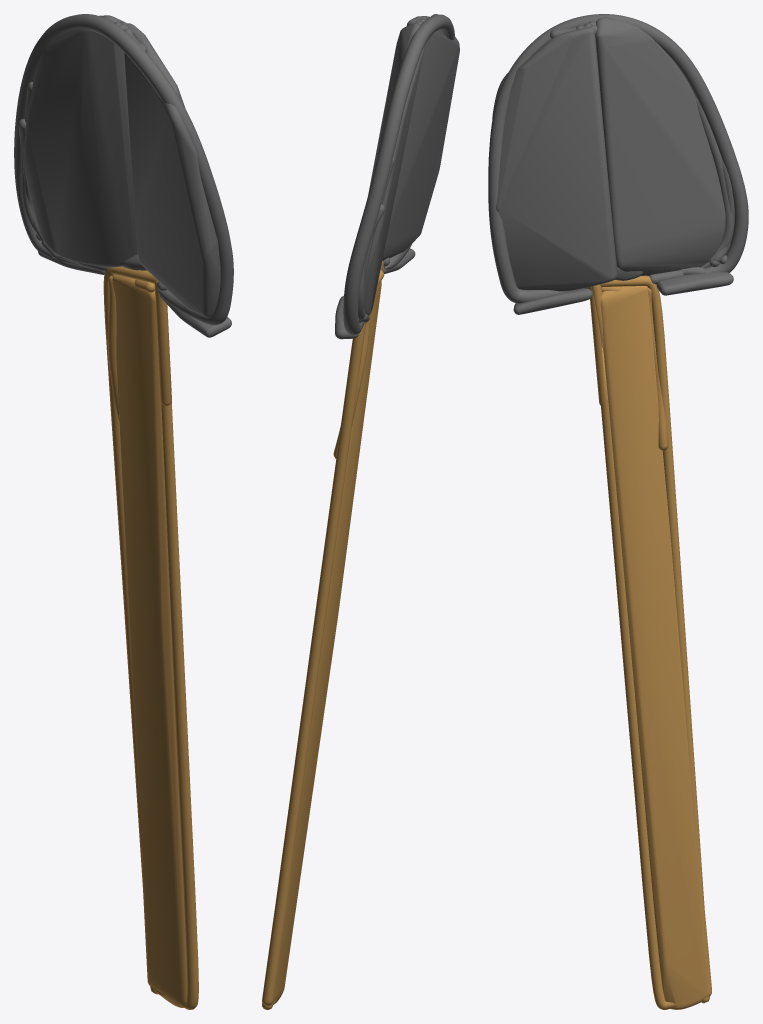
Rendered from shovel.fbx.
3 views of the same model, side by side, from view 1: azimuth 30°, elevation 25°; view 2: azimuth 150°, elevation 25°; view 3: azimuth 270°, elevation 25° (orthographic). The views are drawn at different scales.
Visible parts, largest first — view 1: s.0022, s.0012, s.0013, s.0020, s.0007, s.0021, s.0033, s.0016, s.0036; view 2: s.0022, s.0013, s.0020, s.0007, s.0012, s.0016, s.0033; view 3: s.0022, s.0013, s.0012, s.0020, s.0007, s.0016, s.0035, s.0036, s.0033, s.0021.
Part boxes in pixels (bbox=[...]): s.0022: bbox=[112, 274, 187, 1007]; s.0012: bbox=[24, 15, 137, 267]; s.0013: bbox=[124, 23, 220, 317]; s.0020: bbox=[103, 266, 198, 1009]; s.0007: bbox=[14, 14, 233, 325]; s.0021: bbox=[154, 280, 171, 405]; s.0033: bbox=[107, 275, 119, 420]; s.0016: bbox=[18, 82, 43, 241]; s.0036: bbox=[159, 289, 231, 337]; s.0022: bbox=[262, 281, 381, 1005]; s.0013: bbox=[382, 16, 459, 260]; s.0020: bbox=[262, 261, 382, 1009]; s.0007: bbox=[343, 14, 454, 334]; s.0012: bbox=[363, 23, 424, 315]; s.0016: bbox=[358, 156, 394, 322]; s.0033: bbox=[333, 314, 370, 458]; s.0022: bbox=[600, 286, 711, 1009]; s.0013: bbox=[492, 27, 617, 291]; s.0012: bbox=[595, 17, 725, 275]; s.0020: bbox=[592, 275, 709, 1009]; s.0007: bbox=[488, 14, 748, 303]; s.0016: bbox=[696, 98, 734, 266]; s.0035: bbox=[656, 272, 733, 295]; s.0036: bbox=[513, 288, 592, 314]; s.0033: bbox=[648, 288, 668, 450]; s.0021: bbox=[590, 286, 603, 405].
Size of the model in its own units: 20.56 by 34.46 by 138.
